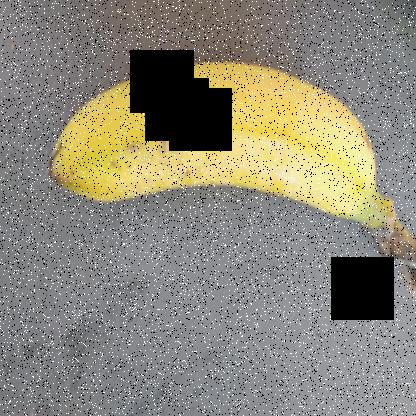ripe: (42, 40, 390, 250)
